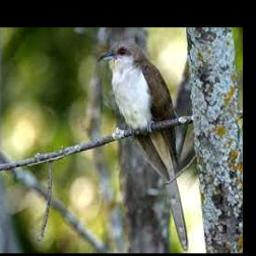Cuckoo: (97, 41, 188, 251)
